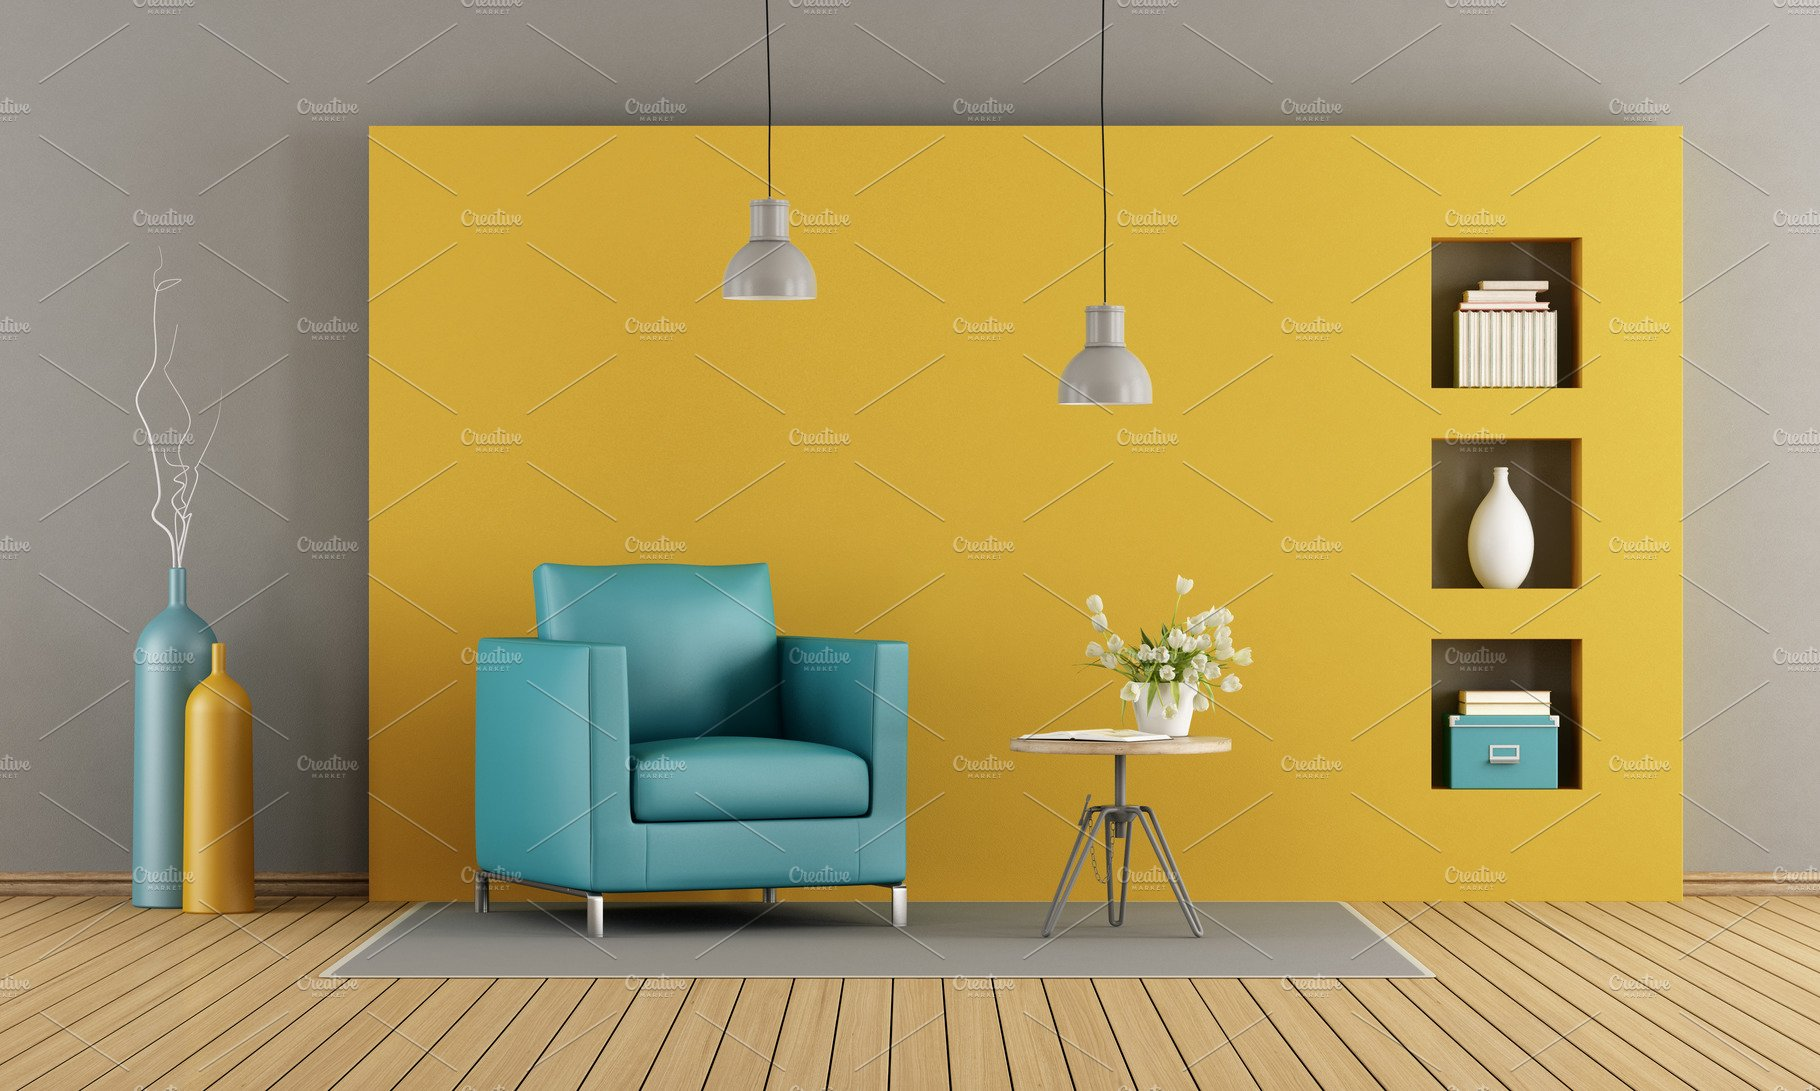biru: (473, 562, 914, 890), (134, 597, 217, 910), (1442, 716, 1563, 790)
kuning: (182, 656, 264, 910)
putih: (1464, 468, 1536, 591)
